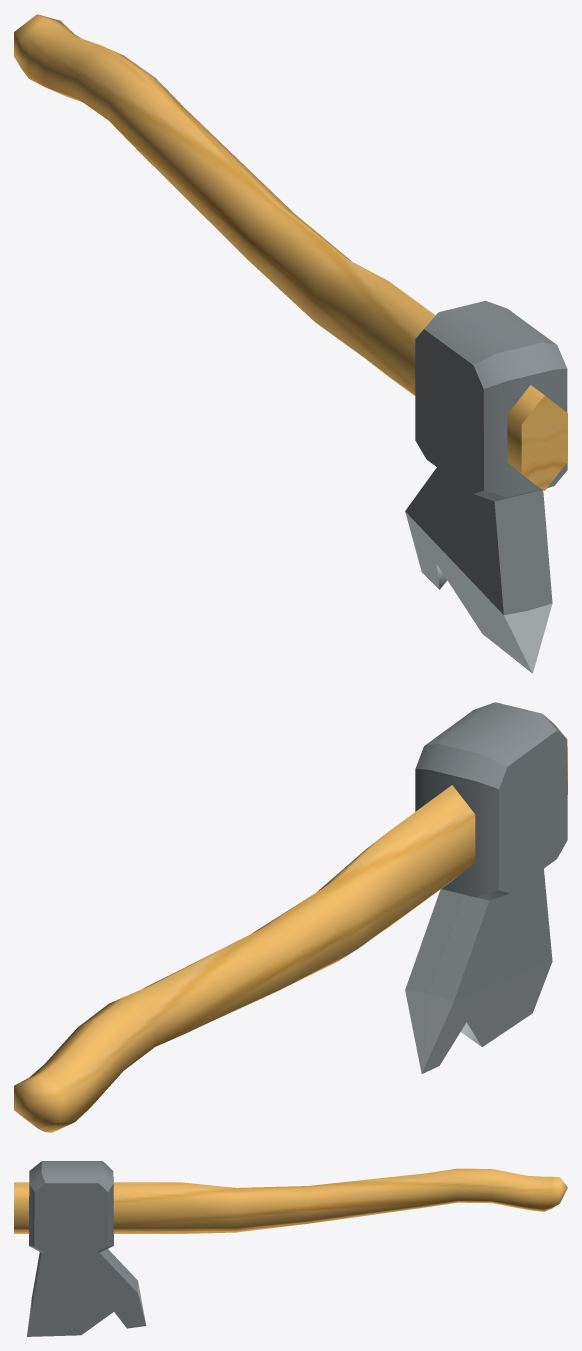
Rendered from weapon04.fbx.
The picture shows the model from 3 angles, top to bottom: view 1: azimuth 30°, elevation 25°; view 2: azimuth 150°, elevation 25°; view 3: azimuth 270°, elevation 25°; orthographic projection. The views are drawn at different scales.
Visible parts, largest first — view 1: huggy04 weapon01; view 2: huggy04 weapon01; view 3: huggy04 weapon01.
Part boxes in pixels (box(x1,y1,x2,y2)): huggy04 weapon01: box(14, 14, 567, 673); huggy04 weapon01: box(14, 702, 567, 1132); huggy04 weapon01: box(14, 1161, 567, 1336).
Bounding box in the file's own units: 0.0826 × 0.2979 × 0.8813.
